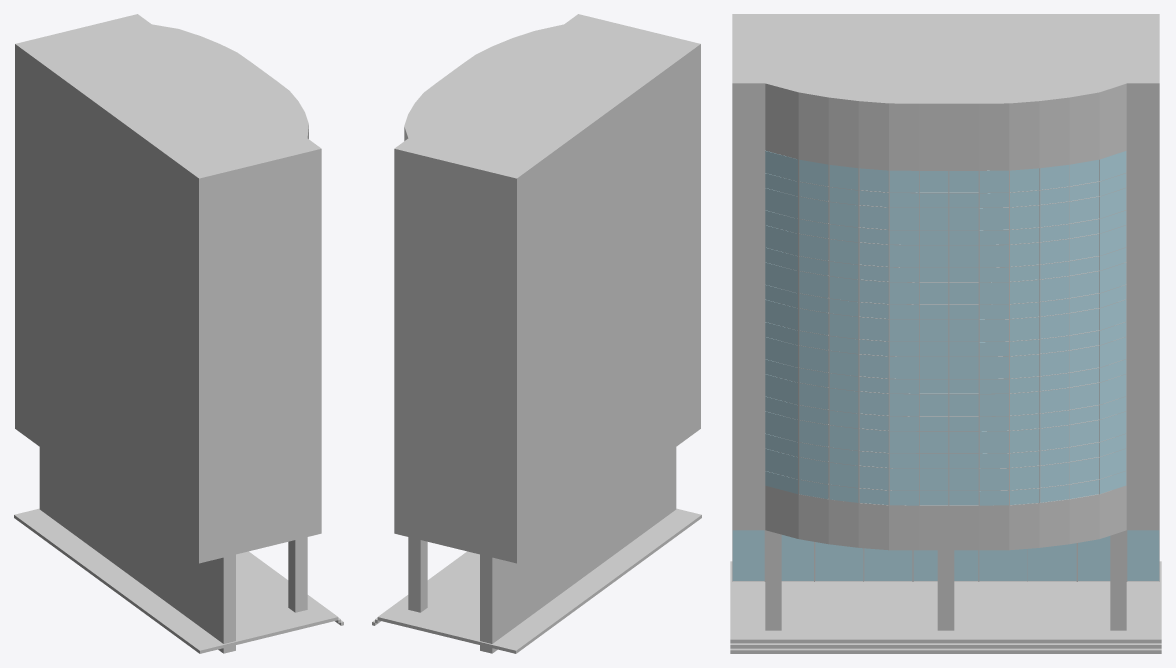
The model's file is 5 between 6 building.glb.
The picture shows the model from 3 angles, left to right: view 1: azimuth 30°, elevation 25°; view 2: azimuth 150°, elevation 25°; view 3: azimuth 270°, elevation 25°; orthographic projection. The views are drawn at different scales.
Visible parts, largest first — view 1: No.5 between No.6 conect.001, Cube.004, stairs, Cube.002, Cube.011, Cube.006, Cube.013, Cube.012, Cube, Cube.008, Cube.010, Cube.005 (+1 smaller); view 2: No.5 between No.6 conect.001, Cube.002, stairs, Cube.004, Cube.006, Cube.011, Cube.005, Cube.008, Cube.003, Cube.012, Cube.009, Cube.010 (+1 smaller); view 3: No.5 between No.6 conect.001, stairs, Cube.002, Cube.004, right-windows-12, right-windows-5, right-windows-8, right-windows-10, right-windows-11, right-windows-6, right-windows-4, right-windows-9 (+17 smaller).
Boxes of the visible parts, box(x1,y1,x2,y2) form: No.5 between No.6 conect.001: box(29, 24, 308, 552); Cube.004: box(185, 138, 321, 563); stairs: box(14, 508, 343, 653); Cube.002: box(15, 14, 151, 438); Cube.011: box(145, 524, 188, 617); Cube.006: box(75, 473, 117, 565); Cube.013: box(209, 554, 235, 653); Cube.012: box(188, 556, 209, 633); Cube: box(288, 537, 307, 612); Cube.008: box(53, 457, 74, 534); Cube.010: box(131, 514, 145, 586); Cube.005: box(39, 447, 53, 519); No.5 between No.6 conect.001: box(404, 24, 686, 552); Cube.002: box(394, 138, 530, 563); stairs: box(372, 508, 701, 653); Cube.004: box(564, 14, 700, 438); Cube.006: box(527, 524, 570, 617); Cube.011: box(598, 473, 640, 565); Cube.005: box(480, 554, 506, 653); Cube.008: box(506, 556, 527, 633); Cube.003: box(408, 537, 427, 612); Cube.012: box(641, 457, 662, 534); Cube.009: box(570, 514, 584, 586); Cube.010: box(584, 504, 598, 576); No.5 between No.6 conect.001: box(765, 14, 1126, 550); stairs: box(730, 561, 1161, 653); Cube.002: box(1126, 14, 1159, 530); Cube.004: box(732, 14, 765, 530); right-windows-12: box(765, 150, 797, 493); right-windows-5: box(979, 170, 1008, 505); right-windows-8: box(889, 170, 918, 505); right-windows-10: box(829, 165, 858, 502); right-windows-11: box(799, 159, 828, 499); right-windows-6: box(949, 171, 978, 505); right-windows-4: box(1010, 168, 1039, 504); right-windows-9: box(859, 168, 888, 504).
Size of the model in its own units: 51.76 by 150 by 105.
